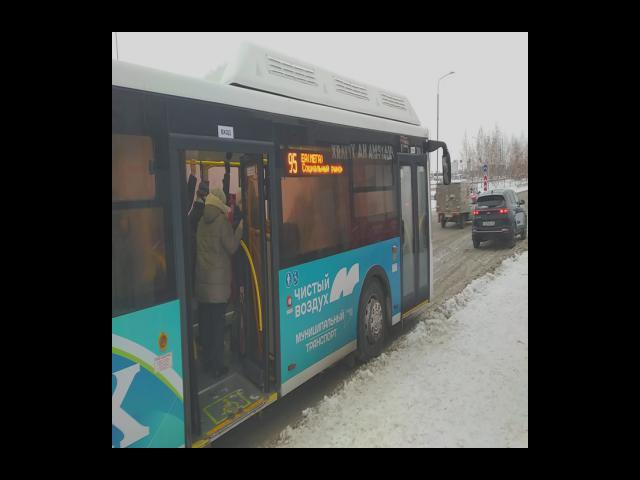bus: (113, 64, 461, 430)
car: (465, 181, 528, 246), (438, 177, 479, 229)
